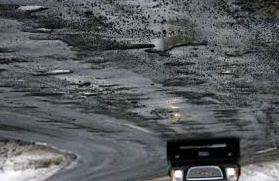pothole: (28, 31, 207, 57), (238, 0, 278, 24), (20, 17, 104, 28), (11, 84, 60, 98), (31, 66, 75, 77), (154, 78, 207, 87), (12, 4, 48, 16), (220, 48, 255, 59), (86, 126, 126, 135), (163, 92, 212, 99), (160, 60, 196, 69), (172, 68, 203, 78), (42, 51, 67, 62), (40, 118, 76, 125), (219, 68, 241, 78), (4, 104, 35, 111), (145, 107, 176, 114), (64, 78, 86, 87), (0, 56, 28, 63), (187, 102, 218, 108), (0, 125, 23, 132), (123, 97, 149, 103), (84, 56, 105, 63), (118, 84, 135, 91), (0, 46, 16, 53), (144, 116, 162, 121), (99, 85, 117, 89), (94, 77, 112, 81), (209, 110, 227, 114), (87, 67, 104, 71)
